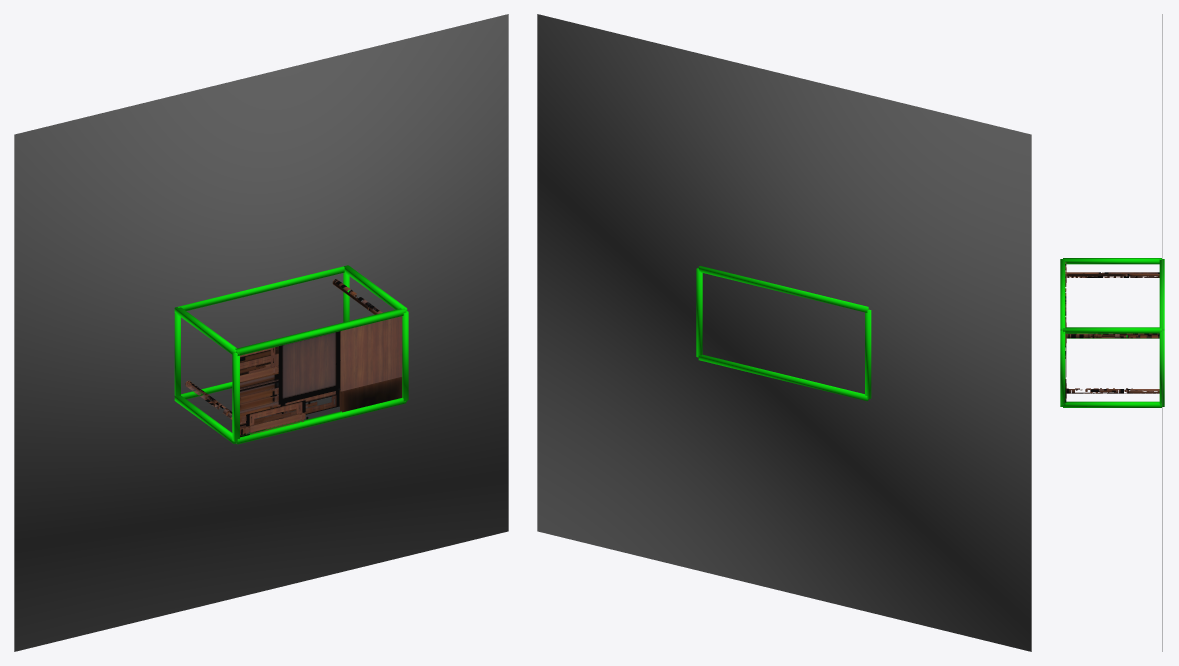
3 views of the same model, side by side, from view 1: azimuth 30°, elevation 25°; view 2: azimuth 150°, elevation 25°; view 3: azimuth 270°, elevation 25° (orthographic). The views are drawn at different scales.
Size of the model in its own units: 2 by 2 by 0.4335.
